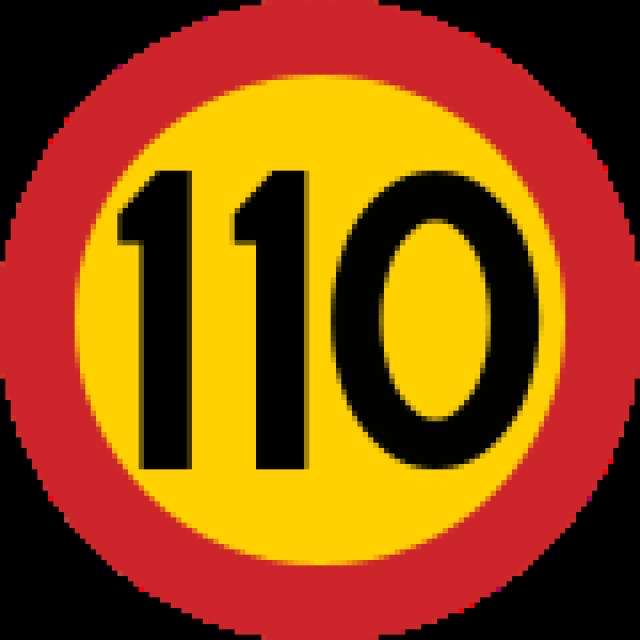Speed Limit -110-: (72, 136, 552, 512)
